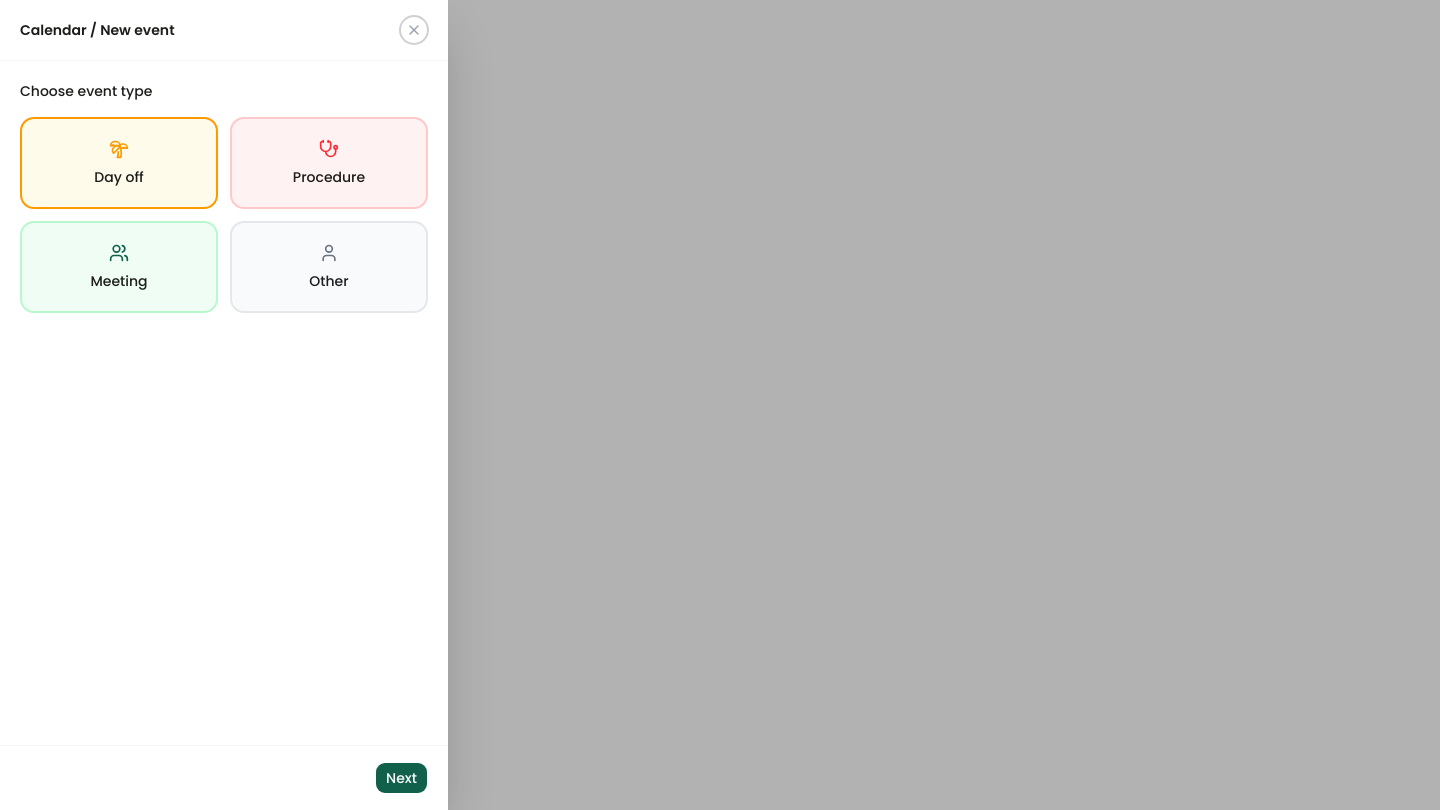
Scenario: NewEventDrawer › advances to the form step via Next
The width and height of the screenshot is (1440, 810).
Click the button "Next": (402, 778) [375, 762, 428, 794]
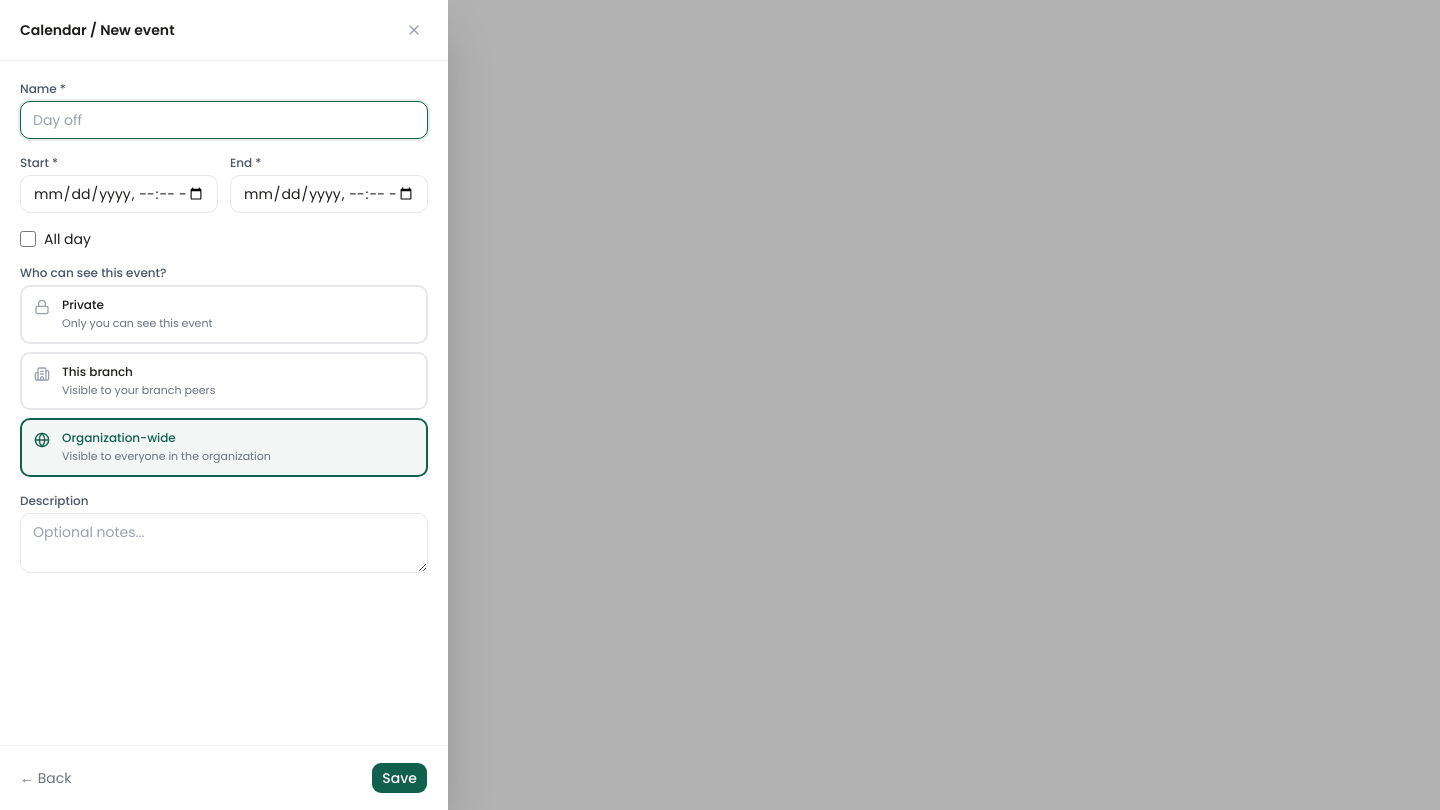
Check: the text "Name *" is shown, box [20, 80, 66, 97]
Check: the button "Save" is shown, box [371, 762, 428, 794]
